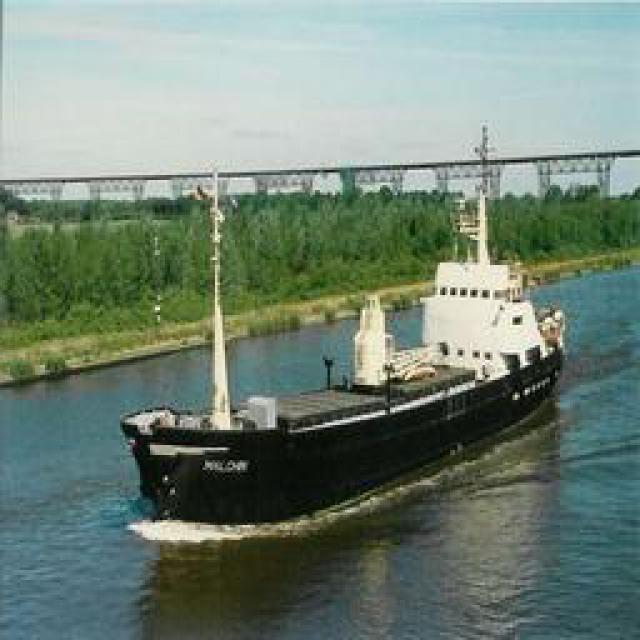Ship: (121, 253, 569, 538)
